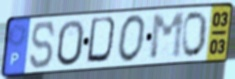D: (84, 15, 120, 66)
M: (148, 11, 186, 63)
O: (116, 13, 148, 64), (56, 19, 86, 68), (181, 10, 210, 60)
S: (29, 20, 57, 72)
